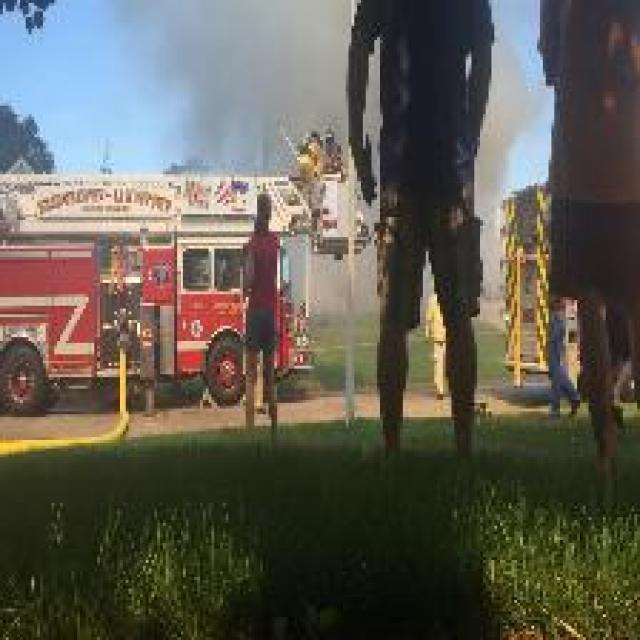smoke: (279, 136, 504, 302), (132, 7, 333, 131)
